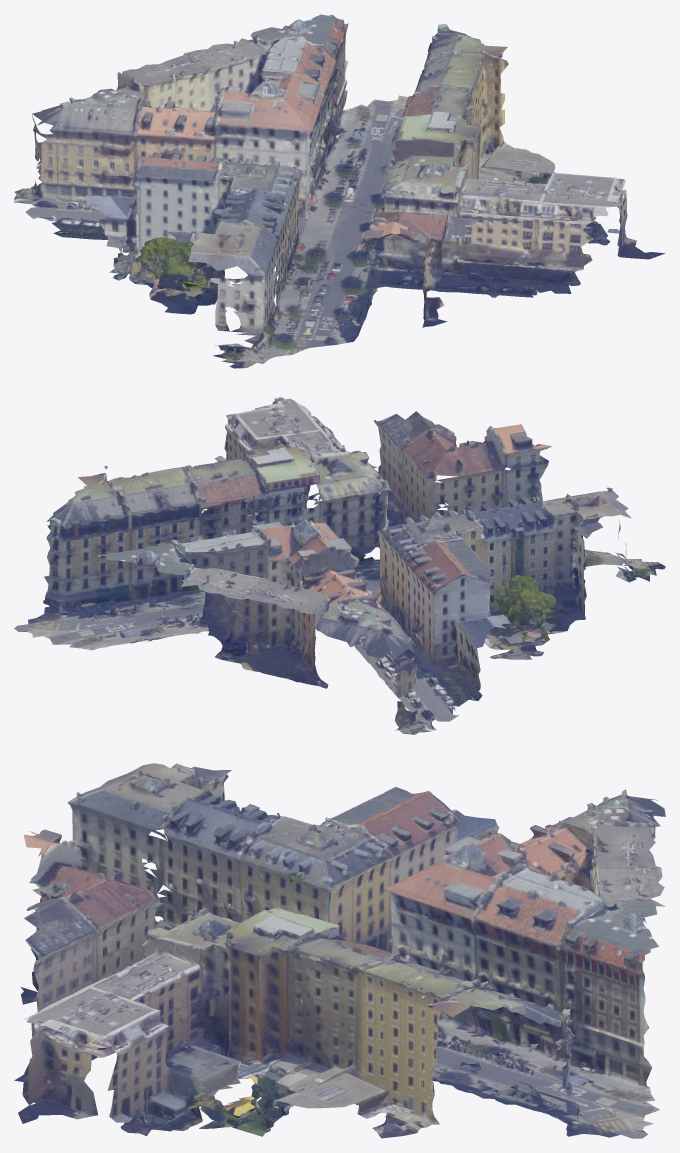
3 views of the same model, one above another, from view 1: azimuth 30°, elevation 25°; view 2: azimuth 150°, elevation 25°; view 3: azimuth 270°, elevation 25° (orthographic). The views are drawn at different scales.
Size of the model in its own units: 109 by 28.93 by 108.
Materials: 1 (1 with a texture image).
